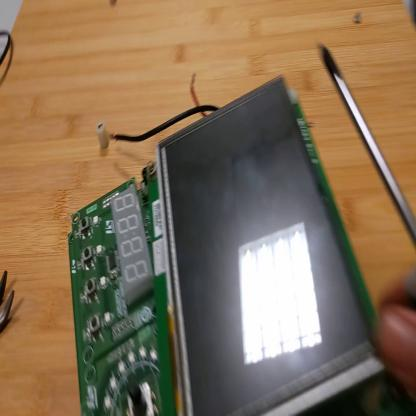hand: (375, 289, 416, 393)
low voltage board: (67, 75, 376, 416)
pliers: (1, 265, 14, 335)
screwdriver-: (318, 46, 416, 244)
working area: (2, 2, 416, 415)
